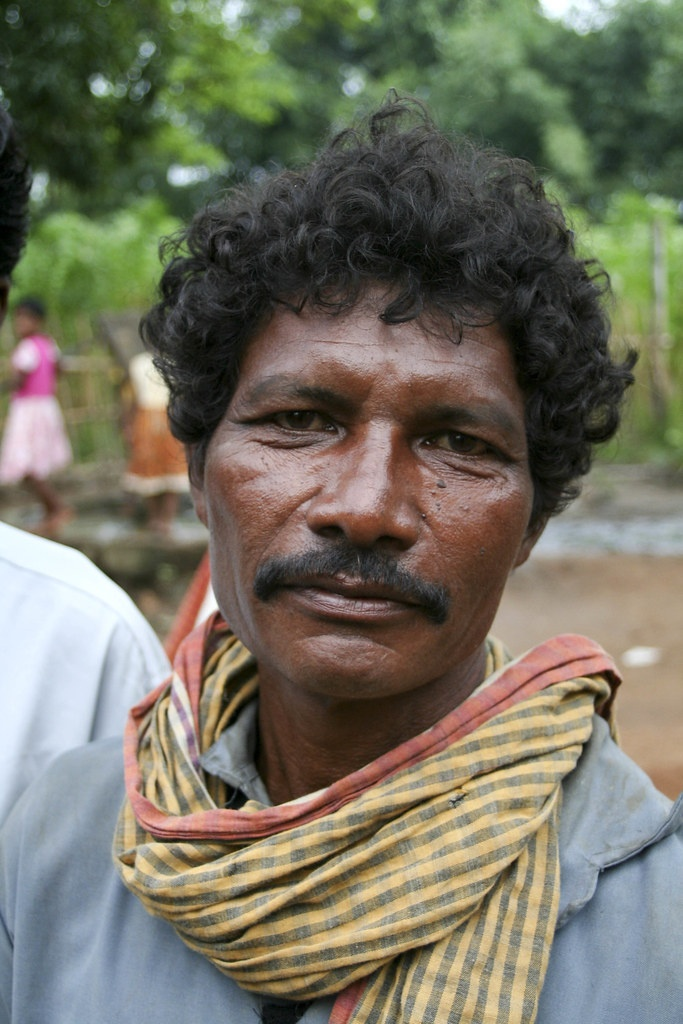without_mask: (186, 264, 574, 694)
